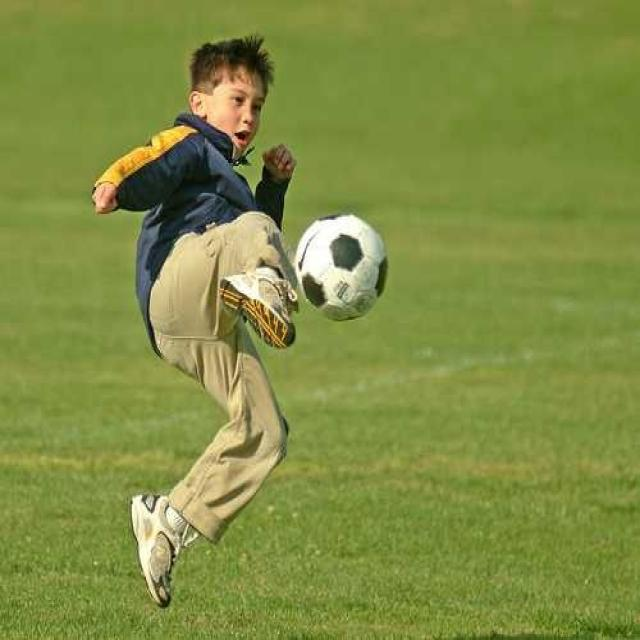ball: (298, 212, 391, 320)
